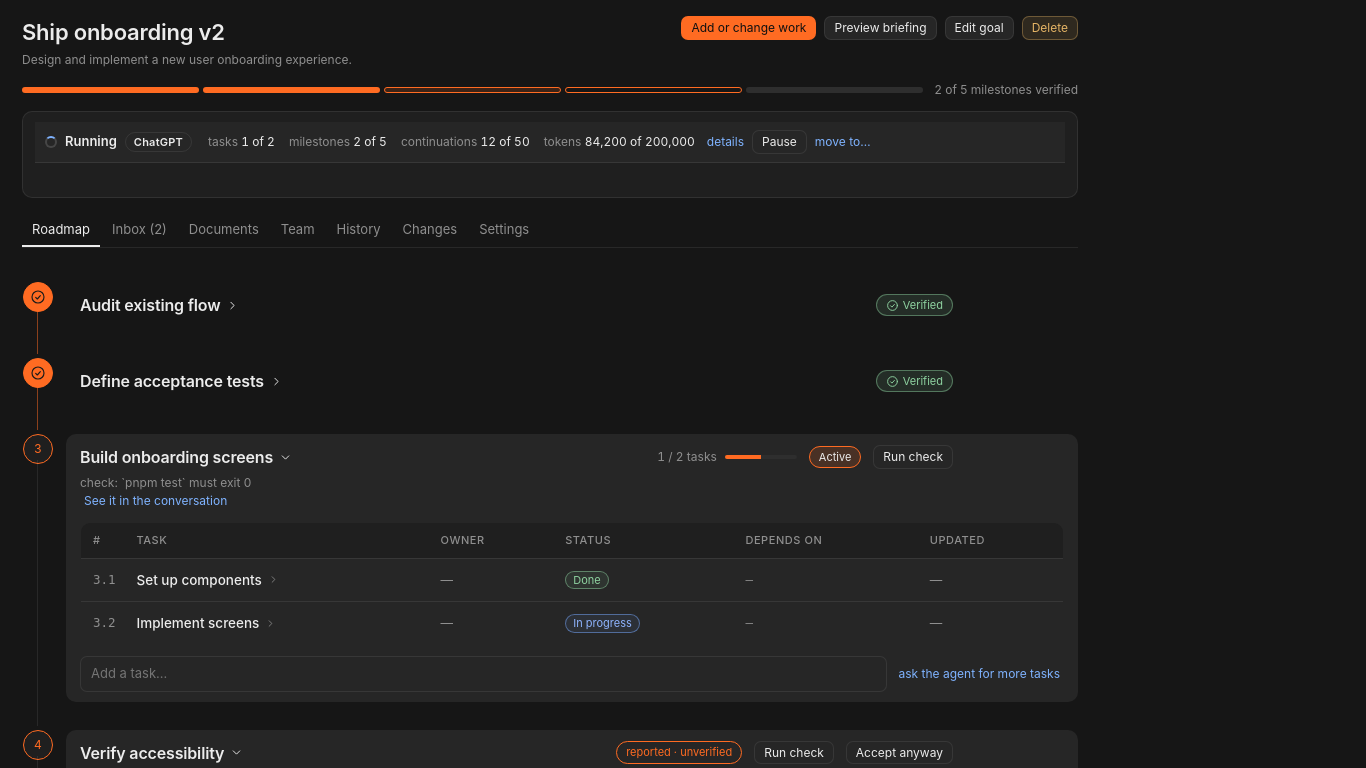
Test: the Big Thing screen › lists what needs a human in the inbox, with the controls that settle it
What coordinates should you click on to do the following:
click the tab "Inbox (2)"
I would click on:
 (139, 230)
Its box is [102, 214, 177, 247].
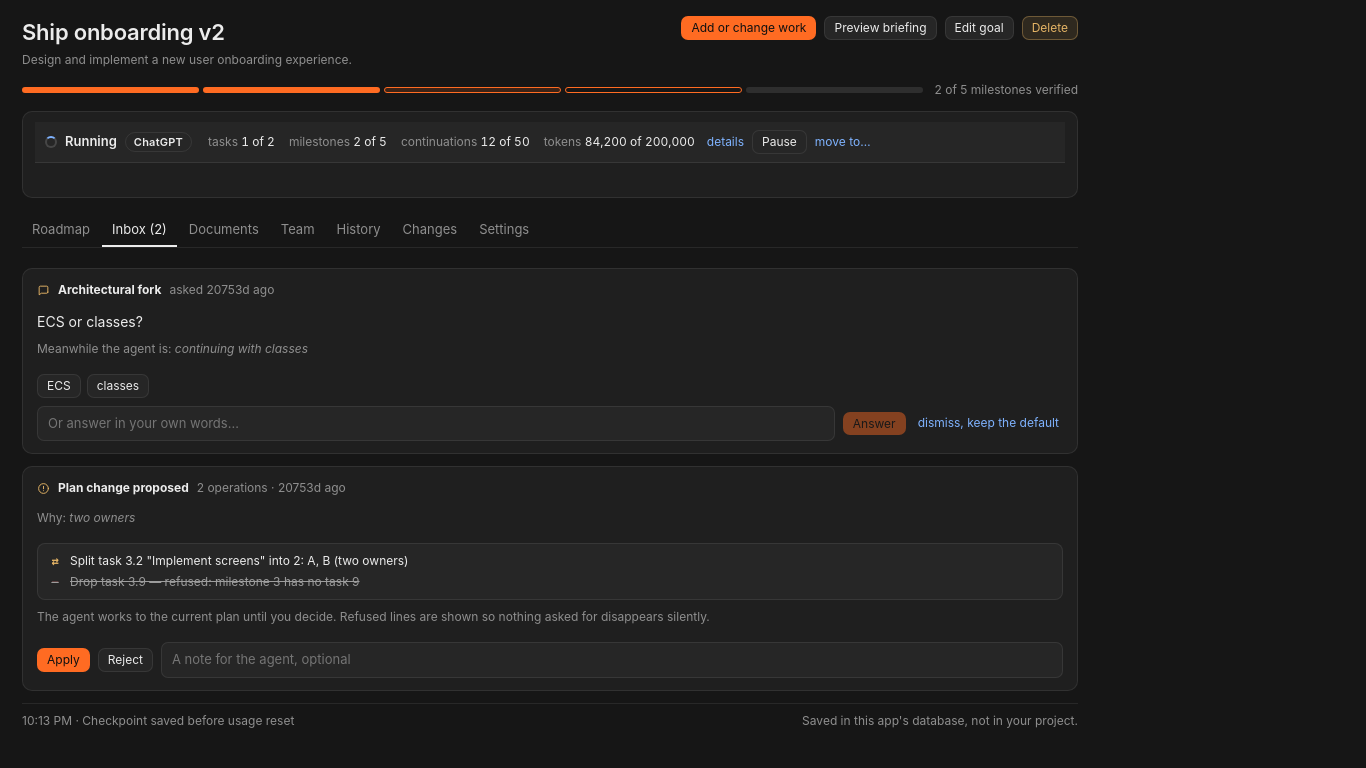
Expected: the text "Architectural fork" is shown, [58, 281, 161, 299]
Expected: the text "ECS or classes?" is shown, [37, 313, 143, 330]
Expected: the button "ECS" is shown, [37, 374, 81, 398]
